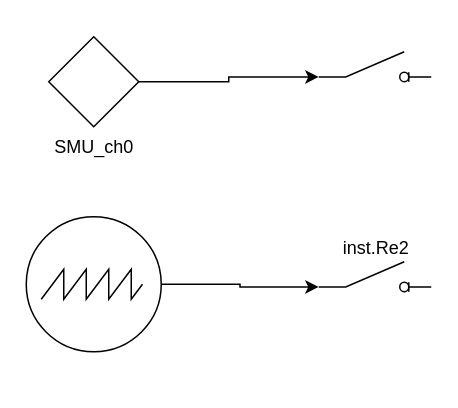
Image size: 458x408. Some labels were removed from this diagram. The shapes that lost their labels are listed below. From the top down, each one's centre as x and y in pixels, then its label:
the point at 374,66: inst.Re1
the point at 93,283: Scope_Ch0
